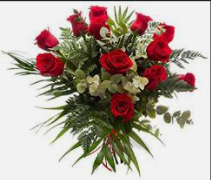RedRose: (98, 47, 133, 76), (34, 51, 66, 82), (106, 91, 135, 122), (145, 35, 175, 62), (86, 6, 111, 38), (144, 65, 168, 95), (131, 10, 155, 38)
